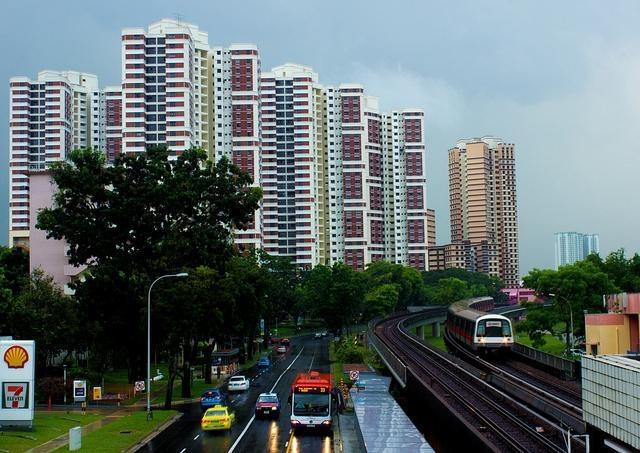bus: (290, 372, 332, 428)
car: (201, 404, 236, 431), (255, 392, 282, 418), (200, 389, 228, 411), (228, 376, 250, 392), (258, 357, 271, 368), (276, 344, 286, 354), (280, 337, 290, 346), (314, 332, 322, 339), (321, 330, 329, 336), (271, 337, 279, 343)
